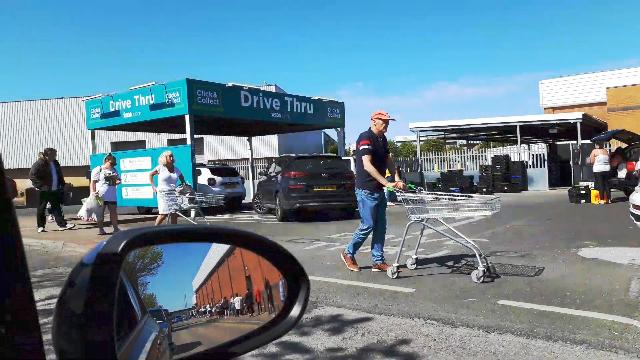berdiri: (332, 100, 406, 282)
